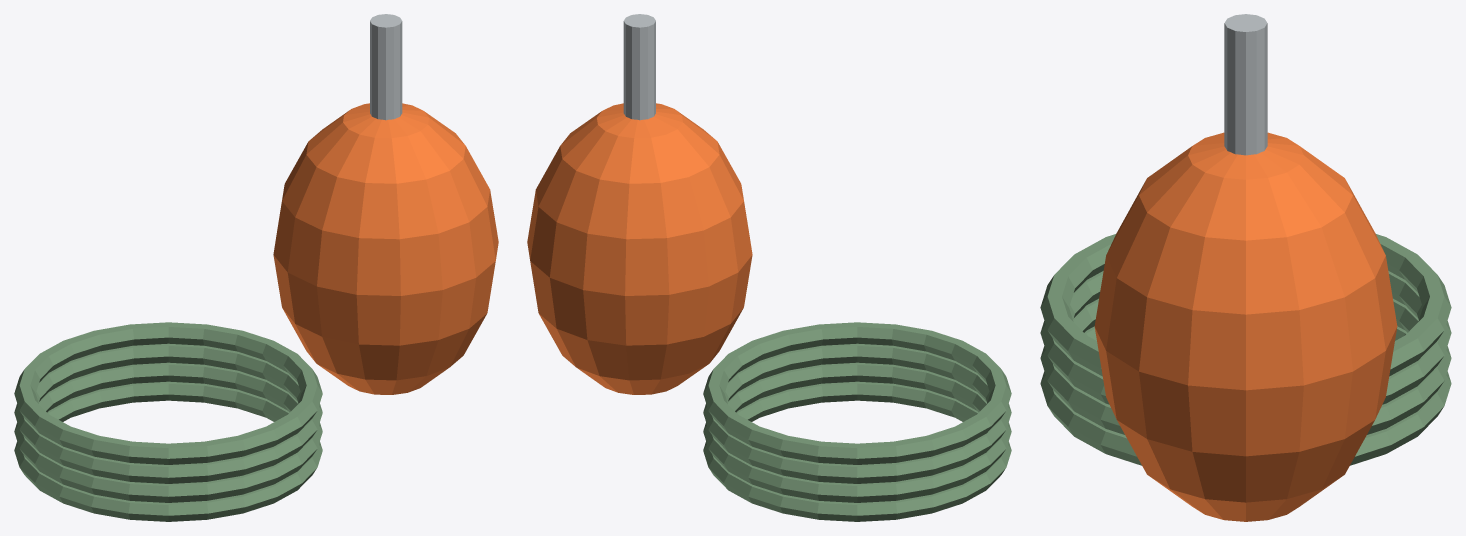
The model's file is pot_rope_buoy.glb.
3 renders of one model, left to right at view 1: azimuth 30°, elevation 25°; view 2: azimuth 150°, elevation 25°; view 3: azimuth 270°, elevation 25°, orthographic. The views are drawn at different scales.
Visible parts, largest first — view 1: Marker buoy, Coiled pot rope.003, Coiled pot rope.002, Coiled pot rope.001, Coiled pot rope, Buoy stem; view 2: Marker buoy, Coiled pot rope.003, Coiled pot rope.002, Coiled pot rope.001, Coiled pot rope, Buoy stem; view 3: Marker buoy, Coiled pot rope.003, Buoy stem, Coiled pot rope, Coiled pot rope.001, Coiled pot rope.002.
Boxes of the visible parts, bbox=[...] form: Marker buoy: bbox=[273, 103, 498, 394]; Coiled pot rope.003: bbox=[14, 322, 322, 464]; Coiled pot rope.002: bbox=[14, 343, 322, 483]; Coiled pot rope.001: bbox=[14, 362, 322, 502]; Coiled pot rope: bbox=[14, 381, 322, 521]; Buoy stem: bbox=[370, 14, 402, 120]; Marker buoy: bbox=[527, 103, 752, 394]; Coiled pot rope.003: bbox=[703, 322, 1011, 464]; Coiled pot rope.002: bbox=[703, 343, 1011, 483]; Coiled pot rope.001: bbox=[703, 362, 1011, 502]; Coiled pot rope: bbox=[703, 381, 1011, 521]; Buoy stem: bbox=[623, 14, 655, 120]; Marker buoy: bbox=[1094, 132, 1397, 521]; Coiled pot rope.003: bbox=[1040, 234, 1451, 376]; Buoy stem: bbox=[1224, 14, 1267, 155]; Coiled pot rope: bbox=[1040, 326, 1451, 465]; Coiled pot rope.001: bbox=[1040, 298, 1451, 434]; Coiled pot rope.002: bbox=[1040, 271, 1451, 404].
Bounding box in the file's own units: 0.868 × 0.7106 × 0.516.
